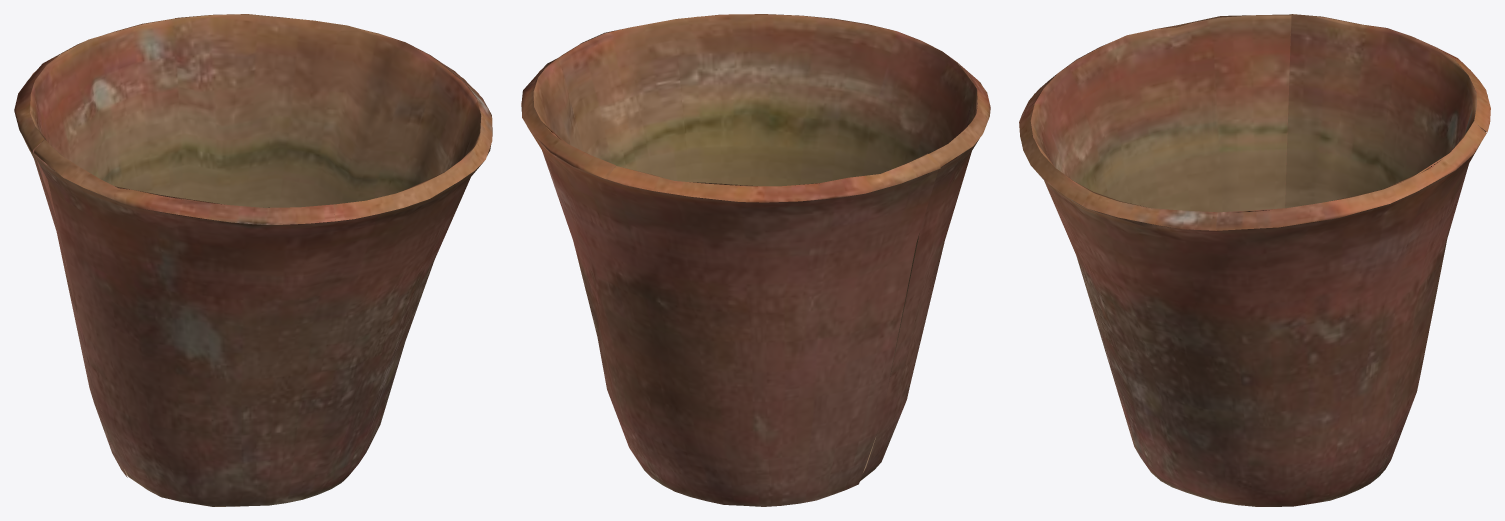
File: ph_planter_pot_clay.glb
3 renders of one model, left to right at view 1: azimuth 30°, elevation 25°; view 2: azimuth 150°, elevation 25°; view 3: azimuth 270°, elevation 25°, orthographic.
Parts seen in each view (by area): view 1: planter_pot_clay; view 2: planter_pot_clay; view 3: planter_pot_clay.
Part boxes in pixels (<box>): planter_pot_clay: <box>14,14,492,506</box>; planter_pot_clay: <box>521,14,990,506</box>; planter_pot_clay: <box>1019,14,1490,506</box>.
Size of the model in its own units: 0.2667 by 0.2223 by 0.2644.
Materials: 1 (1 with a texture image).
